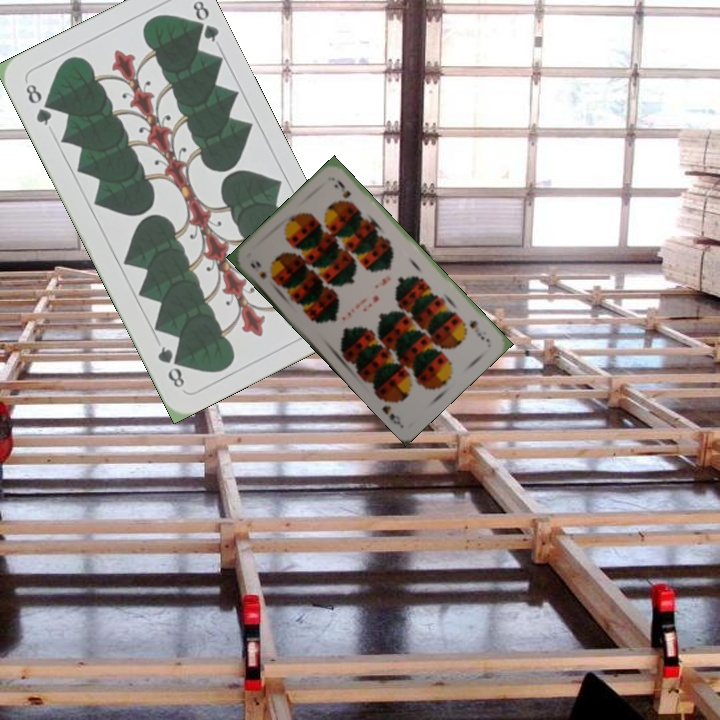G8: (21, 79, 55, 129)
S9: (465, 316, 492, 345), (246, 257, 269, 282)
